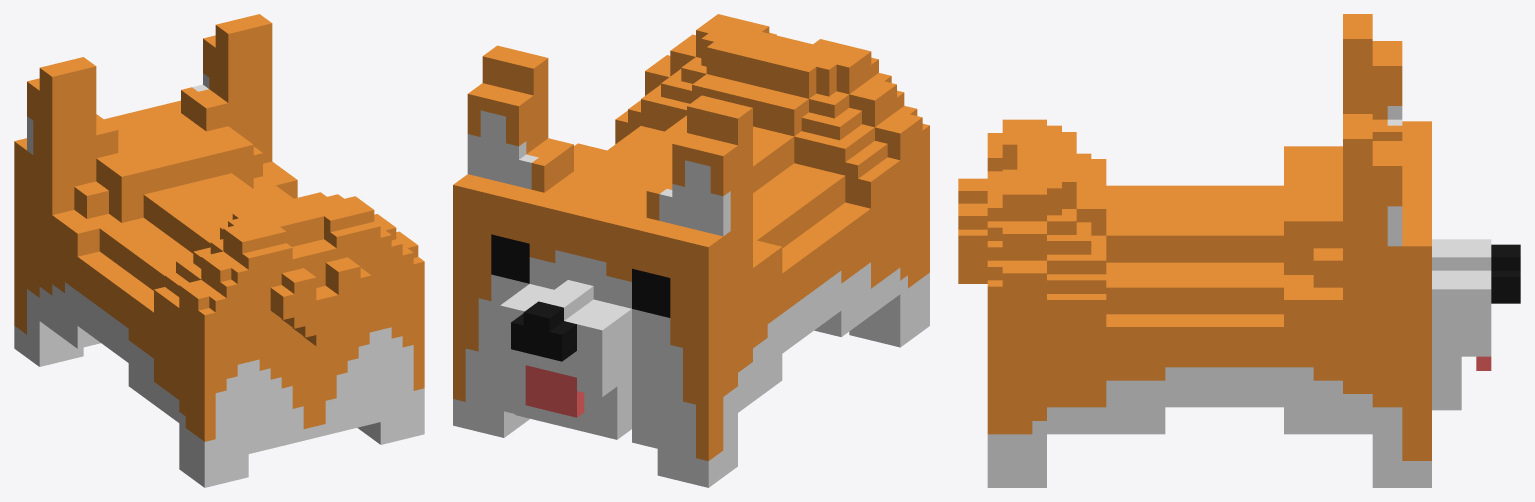
Rendered from Corgi_small.obj.
3 renders of one model, left to right at view 1: azimuth 30°, elevation 25°; view 2: azimuth 150°, elevation 25°; view 3: azimuth 270°, elevation 25°, orthographic. The views are drawn at different scales.
Bounding box in the file's own units: 2 × 2.6 × 3.8.
Materials: 1 (1 with a texture image).
